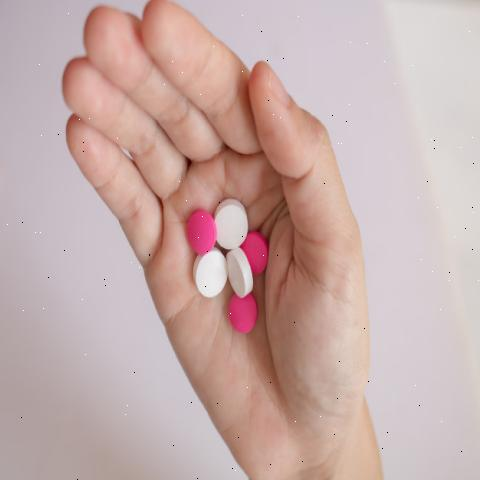Pill: (191, 248, 231, 302), (216, 197, 252, 248), (227, 248, 253, 302)
